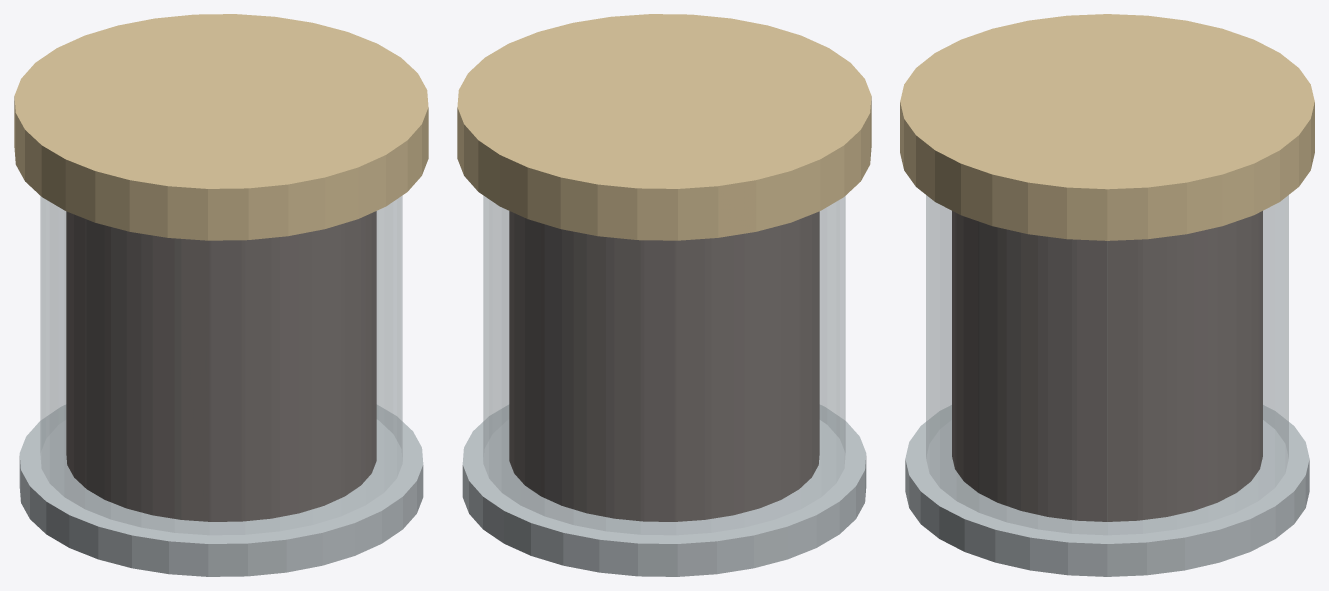
File: tapioca_pearl_jar.glb
3 renders of one model, left to right at view 1: azimuth 30°, elevation 25°; view 2: azimuth 150°, elevation 25°; view 3: azimuth 270°, elevation 25°, orthographic.
Visible parts, largest first — view 1: JarBody, JarPearls, JarLid, JarBase; view 2: JarBody, JarPearls, JarLid, JarBase; view 3: JarBody, JarPearls, JarLid, JarBase.
Part boxes in pixels (left/top/right/bottom): JarBody: left=40, top=195, right=402, bottom=534; JarPearls: left=66, top=211, right=376, bottom=521; JarLid: left=14, top=14, right=428, bottom=240; JarBase: left=19, top=405, right=423, bottom=576; JarBody: left=483, top=195, right=845, bottom=534; JarPearls: left=509, top=211, right=819, bottom=521; JarLid: left=457, top=14, right=871, bottom=240; JarBase: left=462, top=405, right=866, bottom=576; JarBody: left=926, top=195, right=1288, bottom=534; JarPearls: left=952, top=211, right=1262, bottom=521; JarLid: left=900, top=14, right=1314, bottom=240; JarBase: left=905, top=405, right=1309, bottom=576.
Size of the model in its own units: 1.6 by 1.66 by 1.6.
